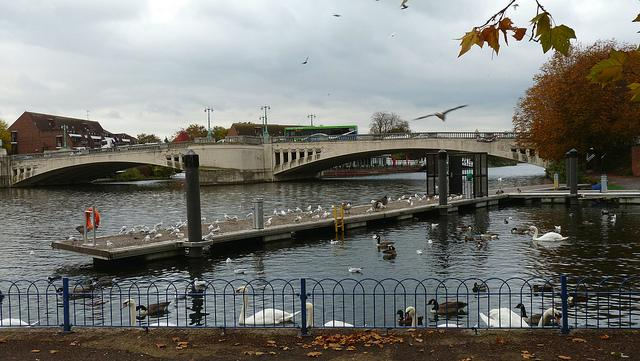bird: (401, 102, 476, 132), (298, 57, 311, 67)
